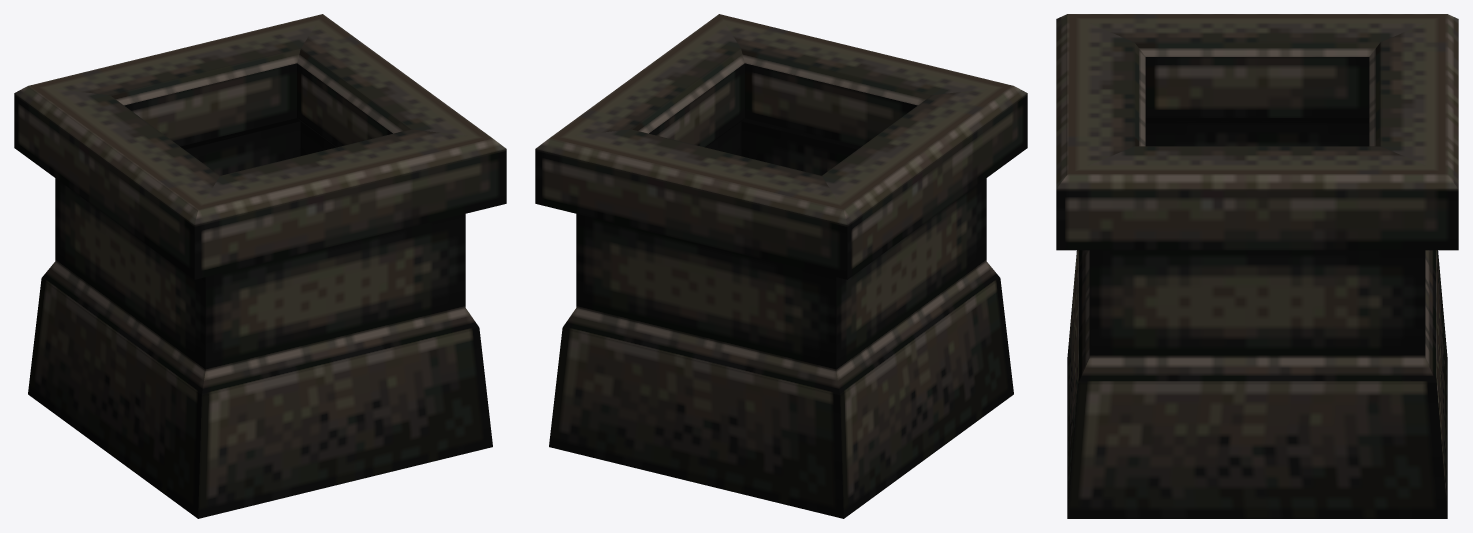
Rendered from EnvMdrMD_Atl_A_Chimney.FBX.
The picture shows the model from 3 angles, left to right: view 1: azimuth 30°, elevation 25°; view 2: azimuth 150°, elevation 25°; view 3: azimuth 270°, elevation 25°; orthographic projection. The views are drawn at different scales.
Visible parts, largest first — view 1: EnvMdrMD_Atl_A_Chimney; view 2: EnvMdrMD_Atl_A_Chimney; view 3: EnvMdrMD_Atl_A_Chimney.
Part boxes in pixels (x1,y1,x2,y2): EnvMdrMD_Atl_A_Chimney: (14, 14, 506, 518); EnvMdrMD_Atl_A_Chimney: (535, 14, 1027, 518); EnvMdrMD_Atl_A_Chimney: (1056, 14, 1458, 518).
Bounding box in the file's own units: 180 × 170 × 180.
